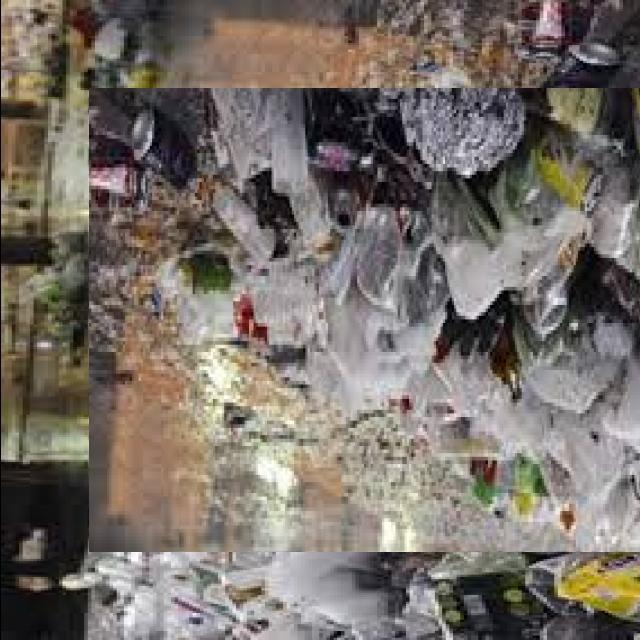garbage: (131, 43, 640, 595)
